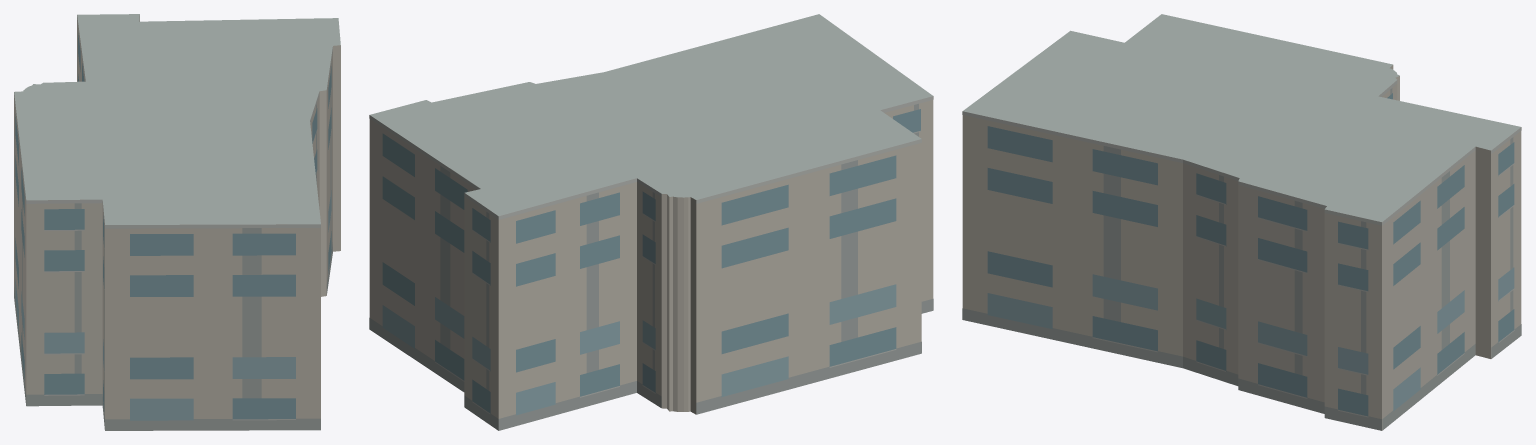
File: survey-upis-33003236.glb
The picture shows the model from 3 angles, left to right: view 1: azimuth 30°, elevation 25°; view 2: azimuth 150°, elevation 25°; view 3: azimuth 270°, elevation 25°; orthographic projection. The views are drawn at different scales.
Visible parts, largest first — view 1: survey-upis-33003236.tmp; view 2: survey-upis-33003236.tmp; view 3: survey-upis-33003236.tmp.
Part boxes in pixels (x1=…): survey-upis-33003236.tmp: x1=14, y1=14, x2=340, y2=430; survey-upis-33003236.tmp: x1=369, y1=14, x2=933, y2=430; survey-upis-33003236.tmp: x1=962, y1=14, x2=1521, y2=430.
Bounding box in the file's own units: 30.19 × 14.1 × 34.24.
